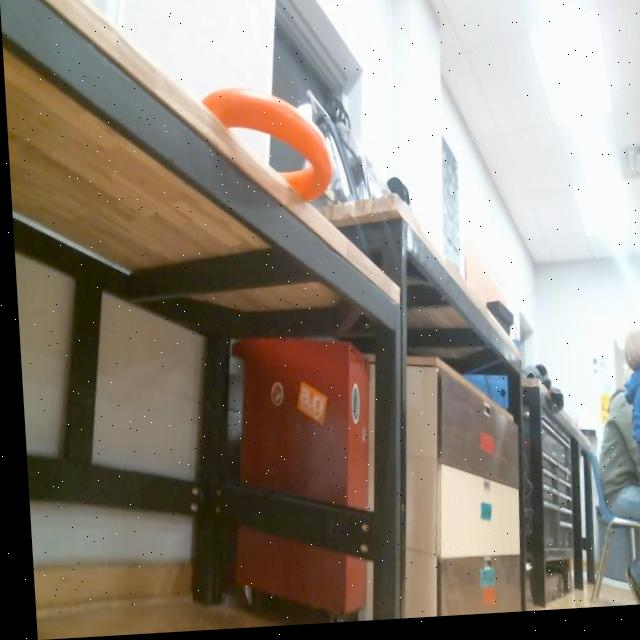note: (200, 80, 335, 209)
